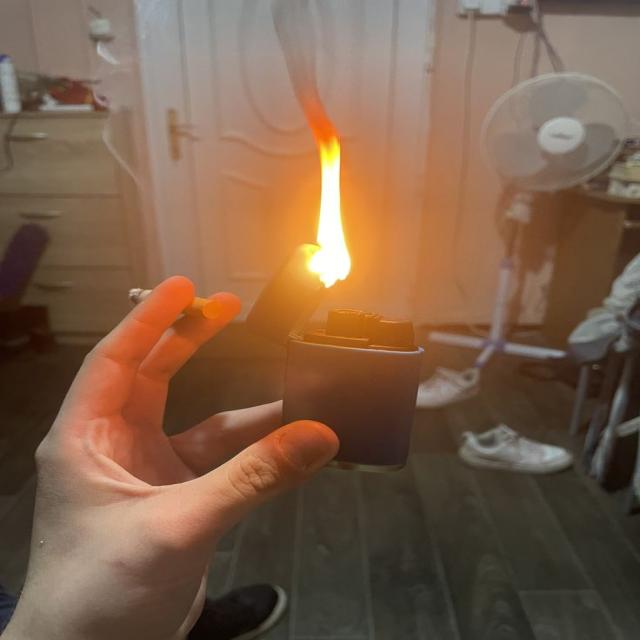fire: (299, 95, 352, 288)
